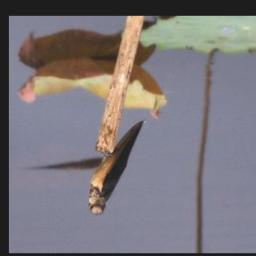Swallow: (88, 117, 145, 217)
